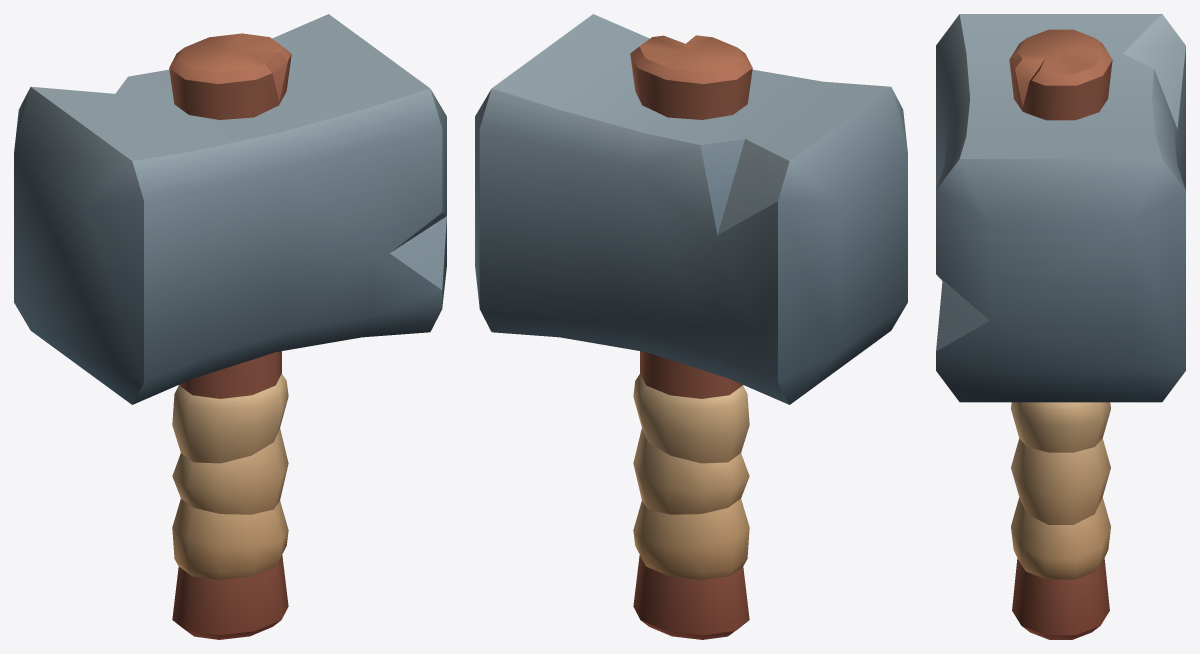
Rendered from hammer.obj.
3 renders of one model, left to right at view 1: azimuth 30°, elevation 25°; view 2: azimuth 150°, elevation 25°; view 3: azimuth 270°, elevation 25°, orthographic.
Visible parts, largest first — view 1: hammer; view 2: hammer; view 3: hammer.
Part boxes in pixels (x1,y1,x2,y2): hammer: (14, 14, 446, 639); hammer: (475, 14, 907, 639); hammer: (936, 14, 1185, 639).
Bounding box in the file's own units: 0.5434 × 0.8234 × 0.3261.
Materials: 1 (1 with a texture image).
